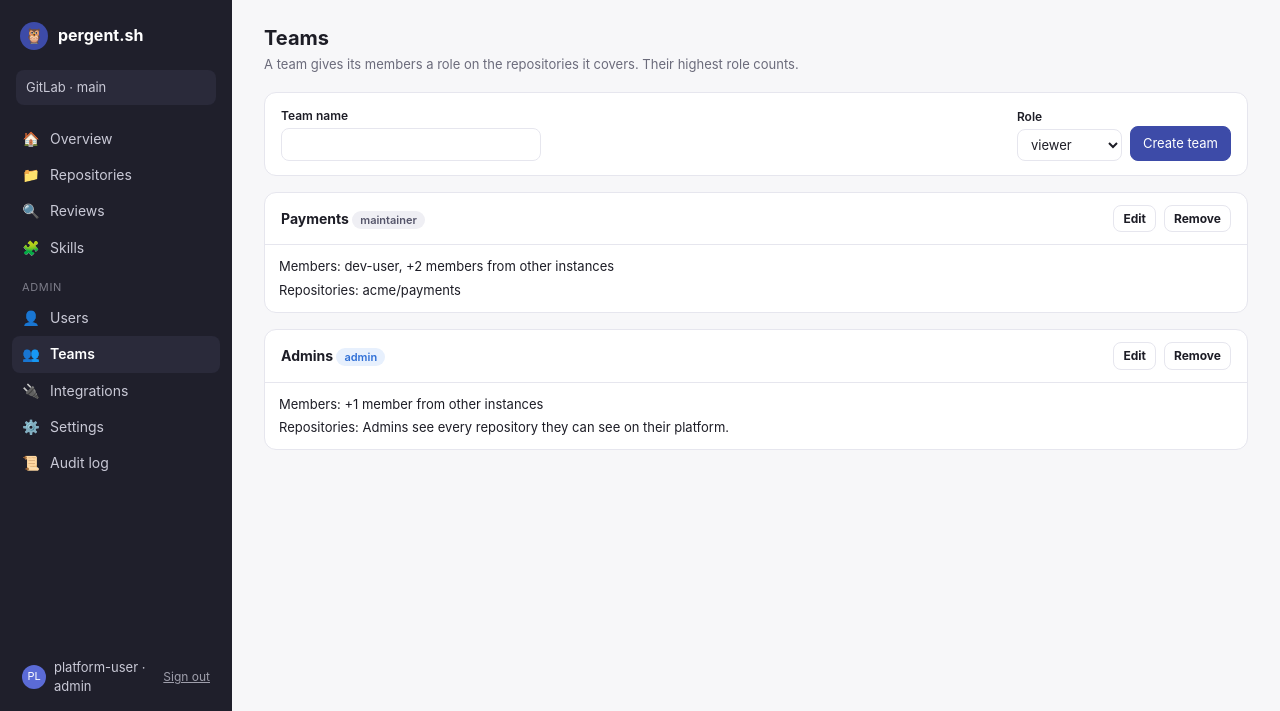
Scenario: Teams › says how many members of other instances a team has, and keeps them
Expected: the element "Payments" shows "dev-user, +2 members from other instances", [344,258,614,274]
Expected: the element "Admins" shows "Members: +1 member from other instances", [264,329,1248,450]
Step 1. Click the button "Edit" in the row of "maintainer" → x=1135, y=219, box [1113,205,1156,232]
(page scrolled)
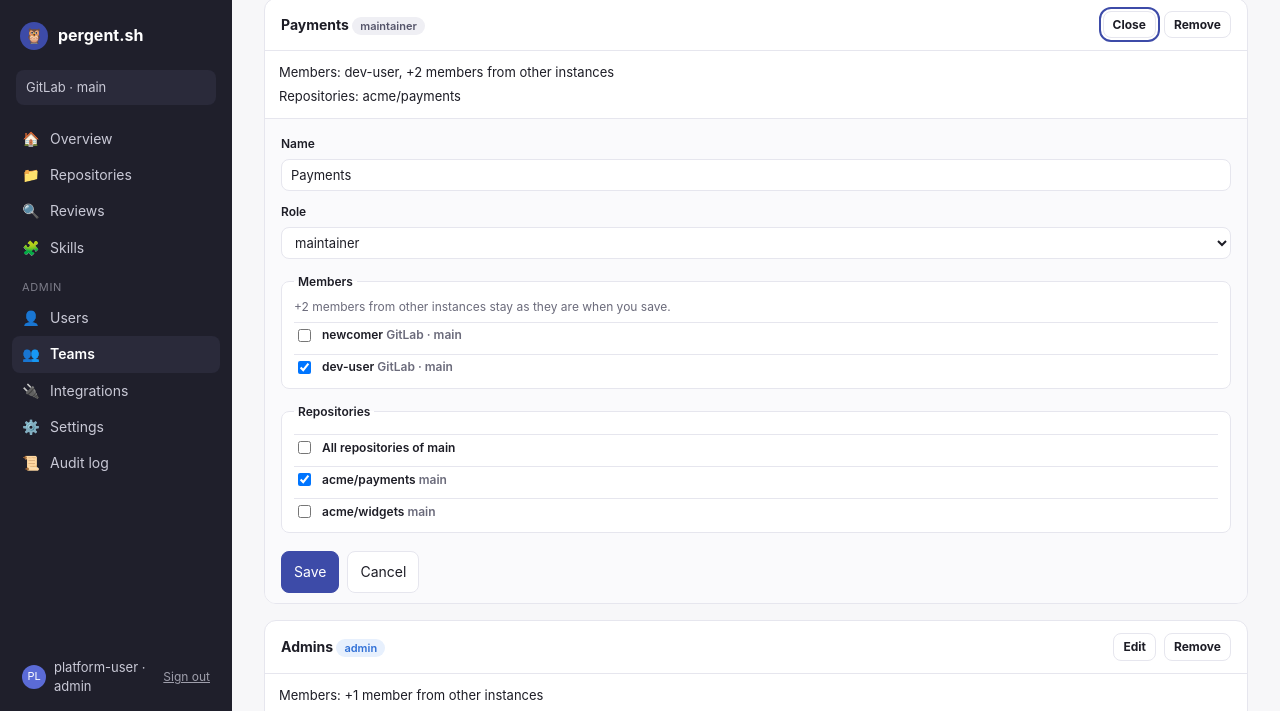
Expected: the form named "Edit Payments" shows "+2 members from other instances stay as they are when you save.", [265,118,1247,603]
